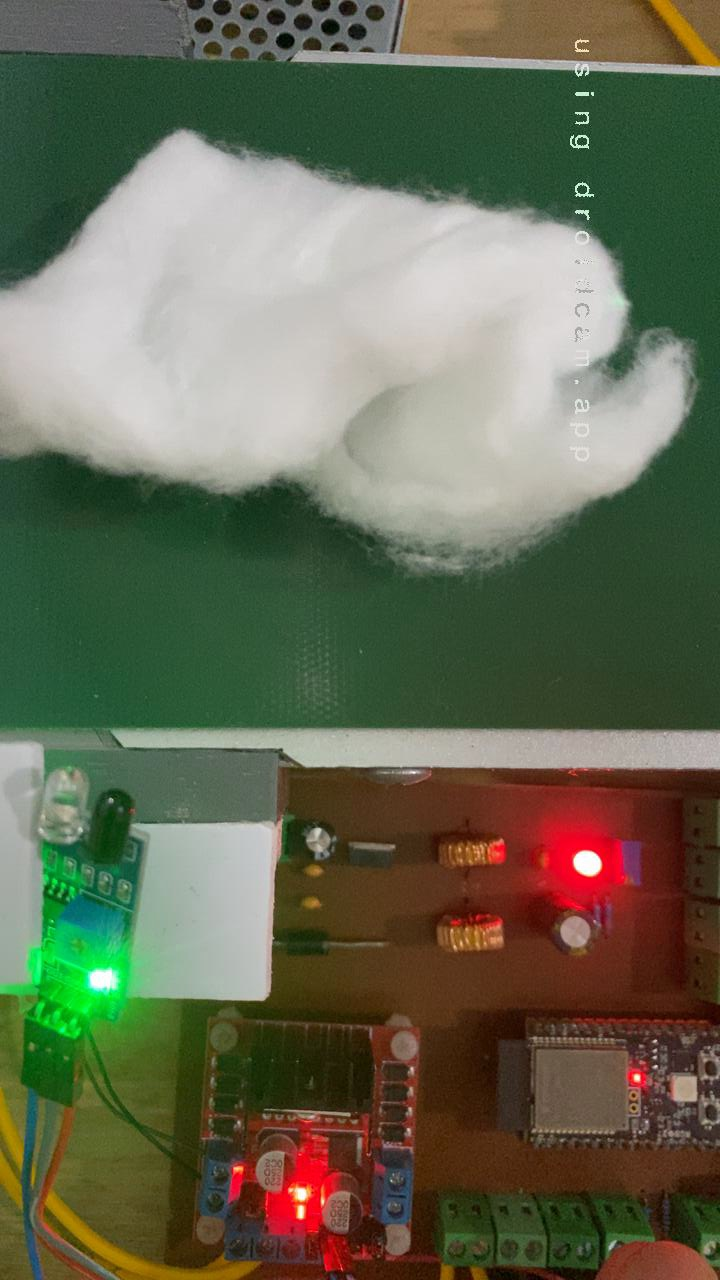cotton: (0, 121, 701, 578)
